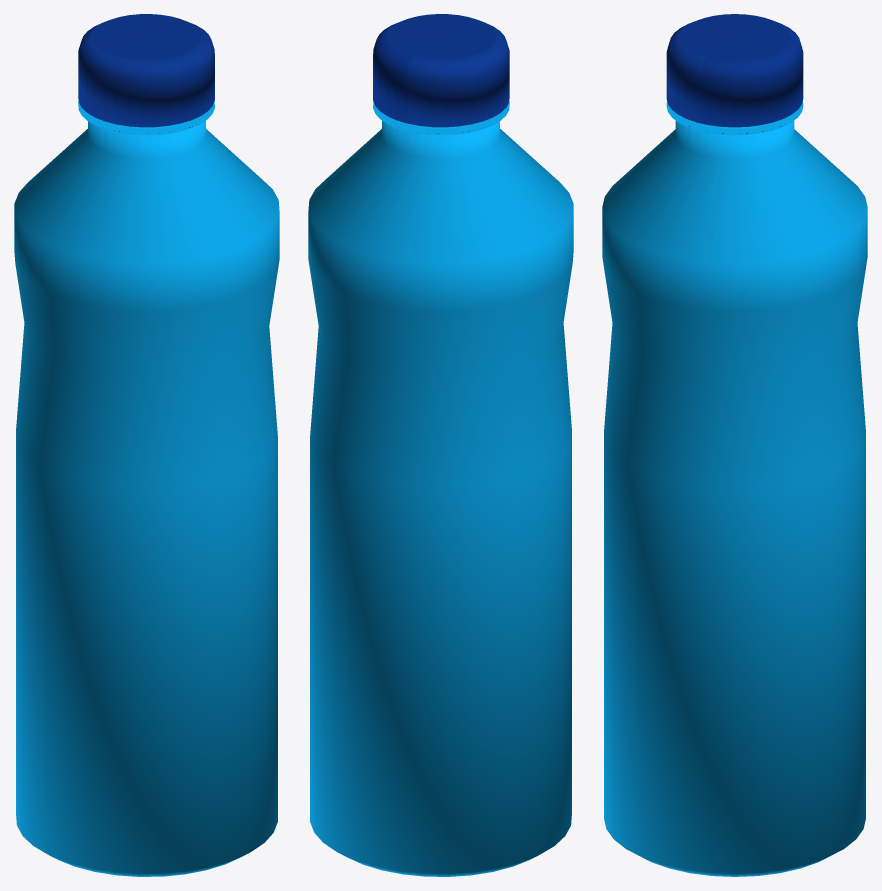
File: WaterBottleLowPoly.fbx
The picture shows the model from 3 angles, left to right: view 1: azimuth 30°, elevation 25°; view 2: azimuth 150°, elevation 25°; view 3: azimuth 270°, elevation 25°; orthographic projection.
Parts seen in each view (by area): view 1: Cylindre.002; view 2: Cylindre.002; view 3: Cylindre.002.
Boxes of the visible parts, x1,y1,x2,y2 form: Cylindre.002: (14,14,279,876); Cylindre.002: (308,14,573,876); Cylindre.002: (602,14,867,876).
Size of the model in its own units: 123 by 407 by 123.
Materials: 2 (2 with a texture image).
